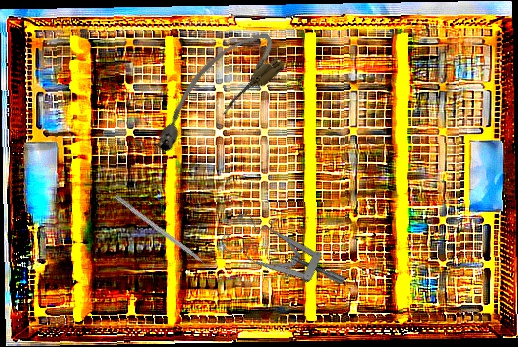Cannula: (136, 21, 292, 163)
Chopper: (110, 194, 217, 279)
Speculum: (214, 190, 347, 327)
